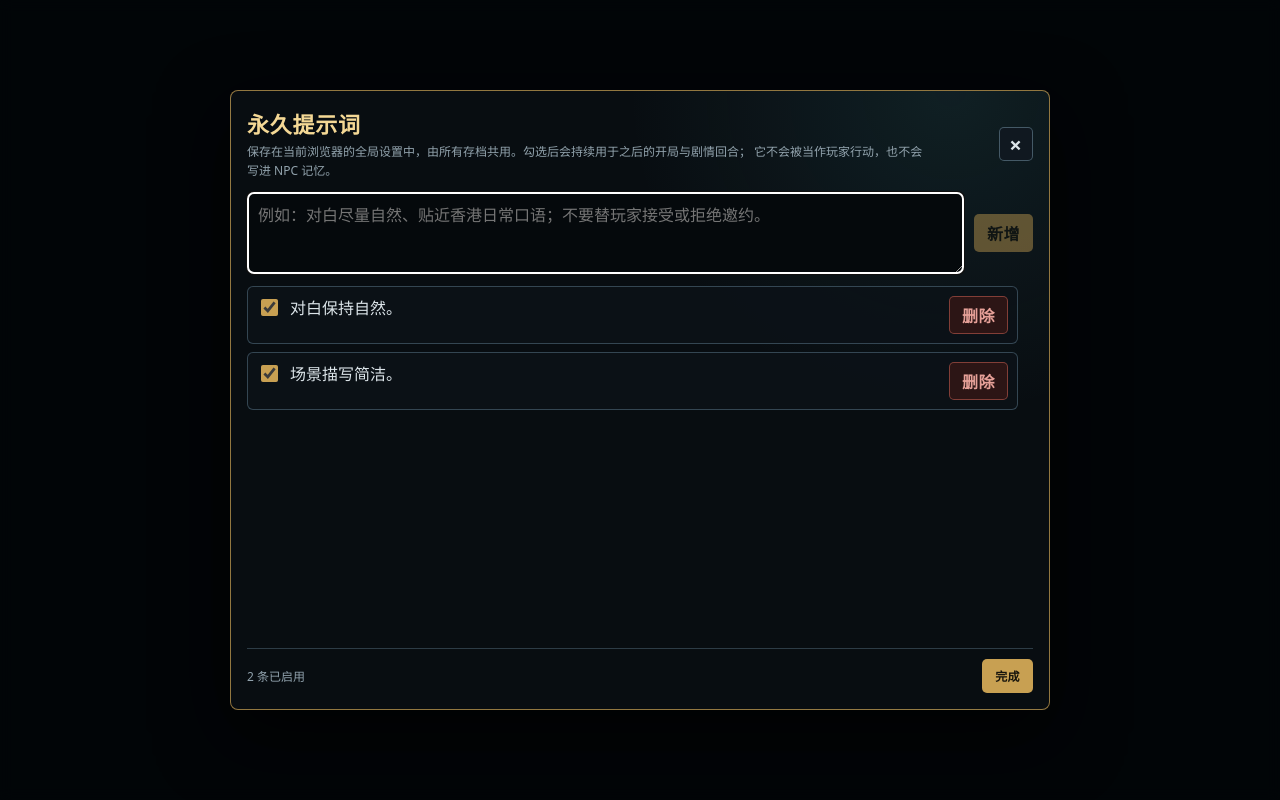
PersistentPromptManager › allows each prompt to be disabled and deleted independently
The image size is (1280, 800).
Click the checkbox named "启用永久提示词：对白保持自然。". click: point(270, 308)
box: [261, 299, 278, 316]
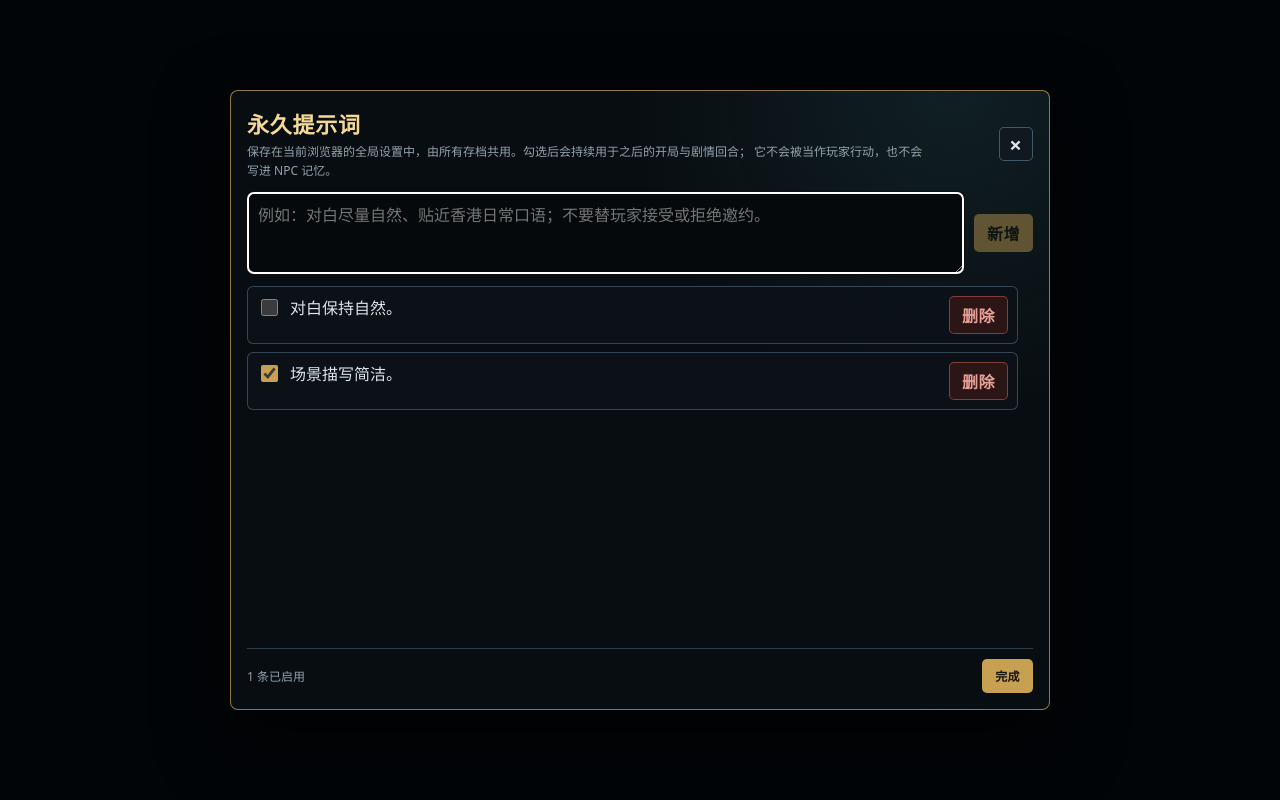
Click the button with aria-label "删除永久提示词：场景描写简洁。". click: point(978, 381)
box: [949, 362, 1008, 400]
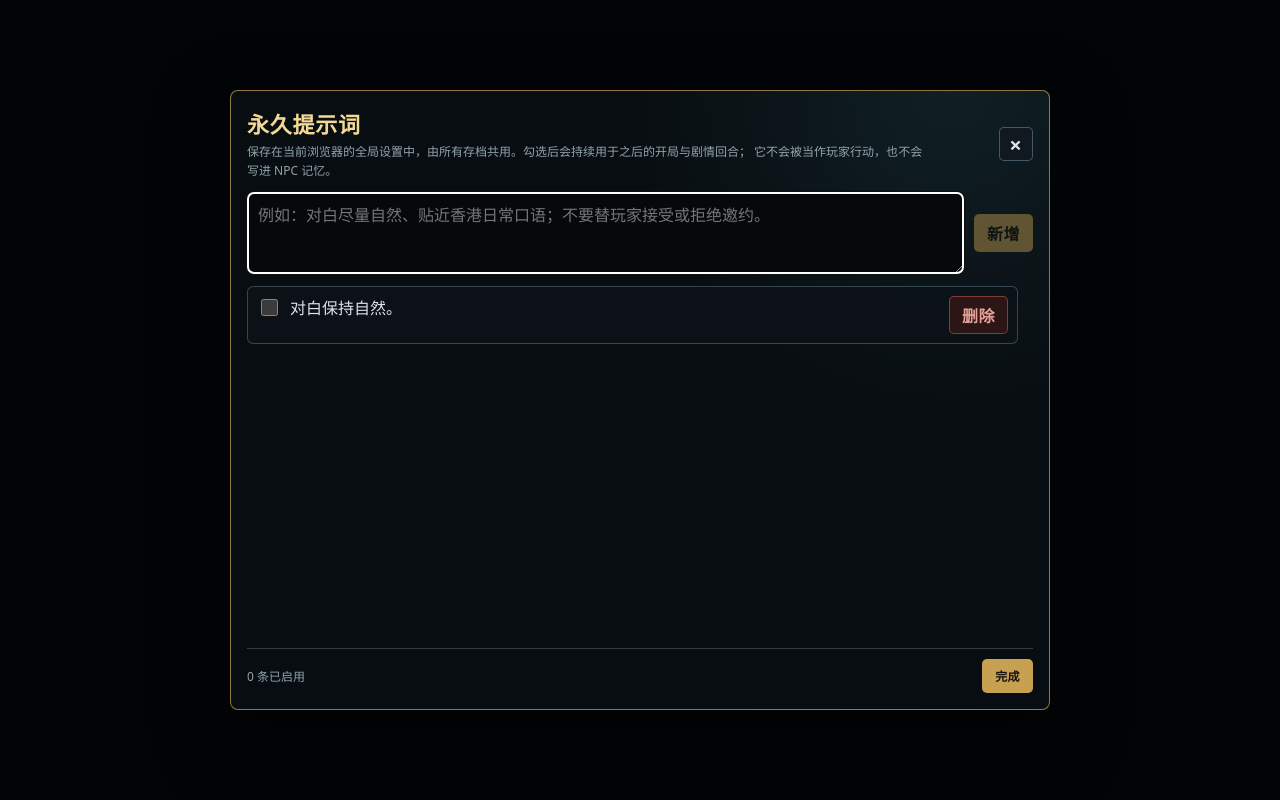
Now the text "场景描写简洁。" is gone
